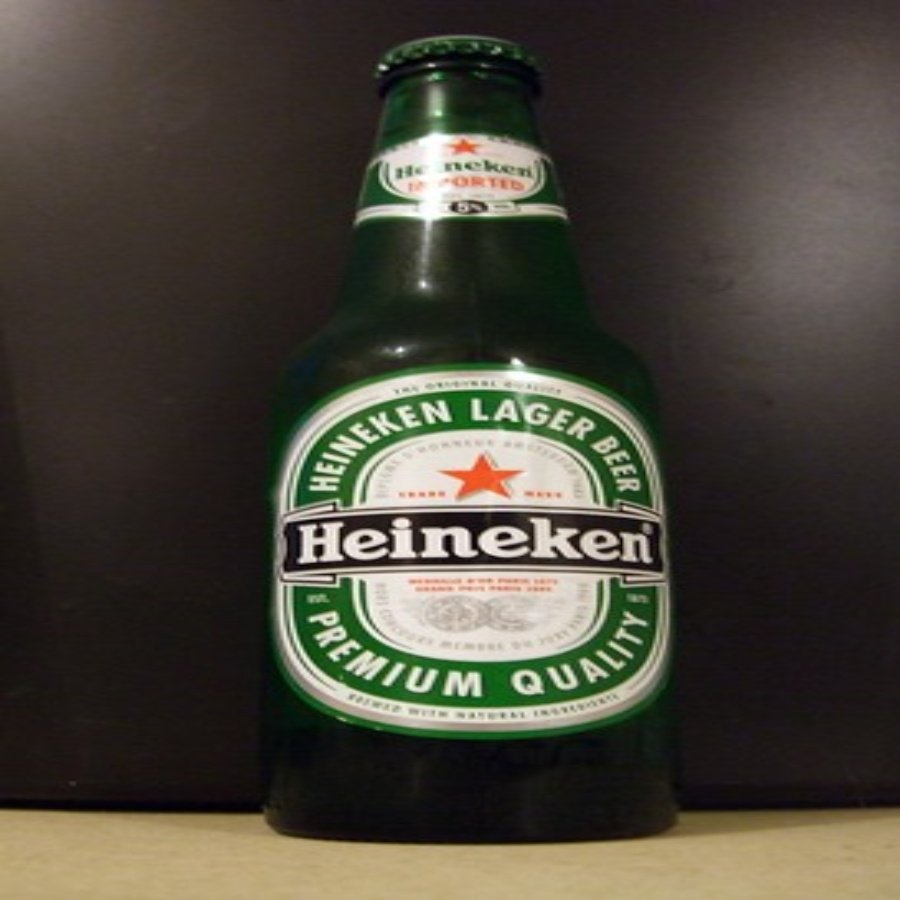beer: (261, 36, 697, 843)
